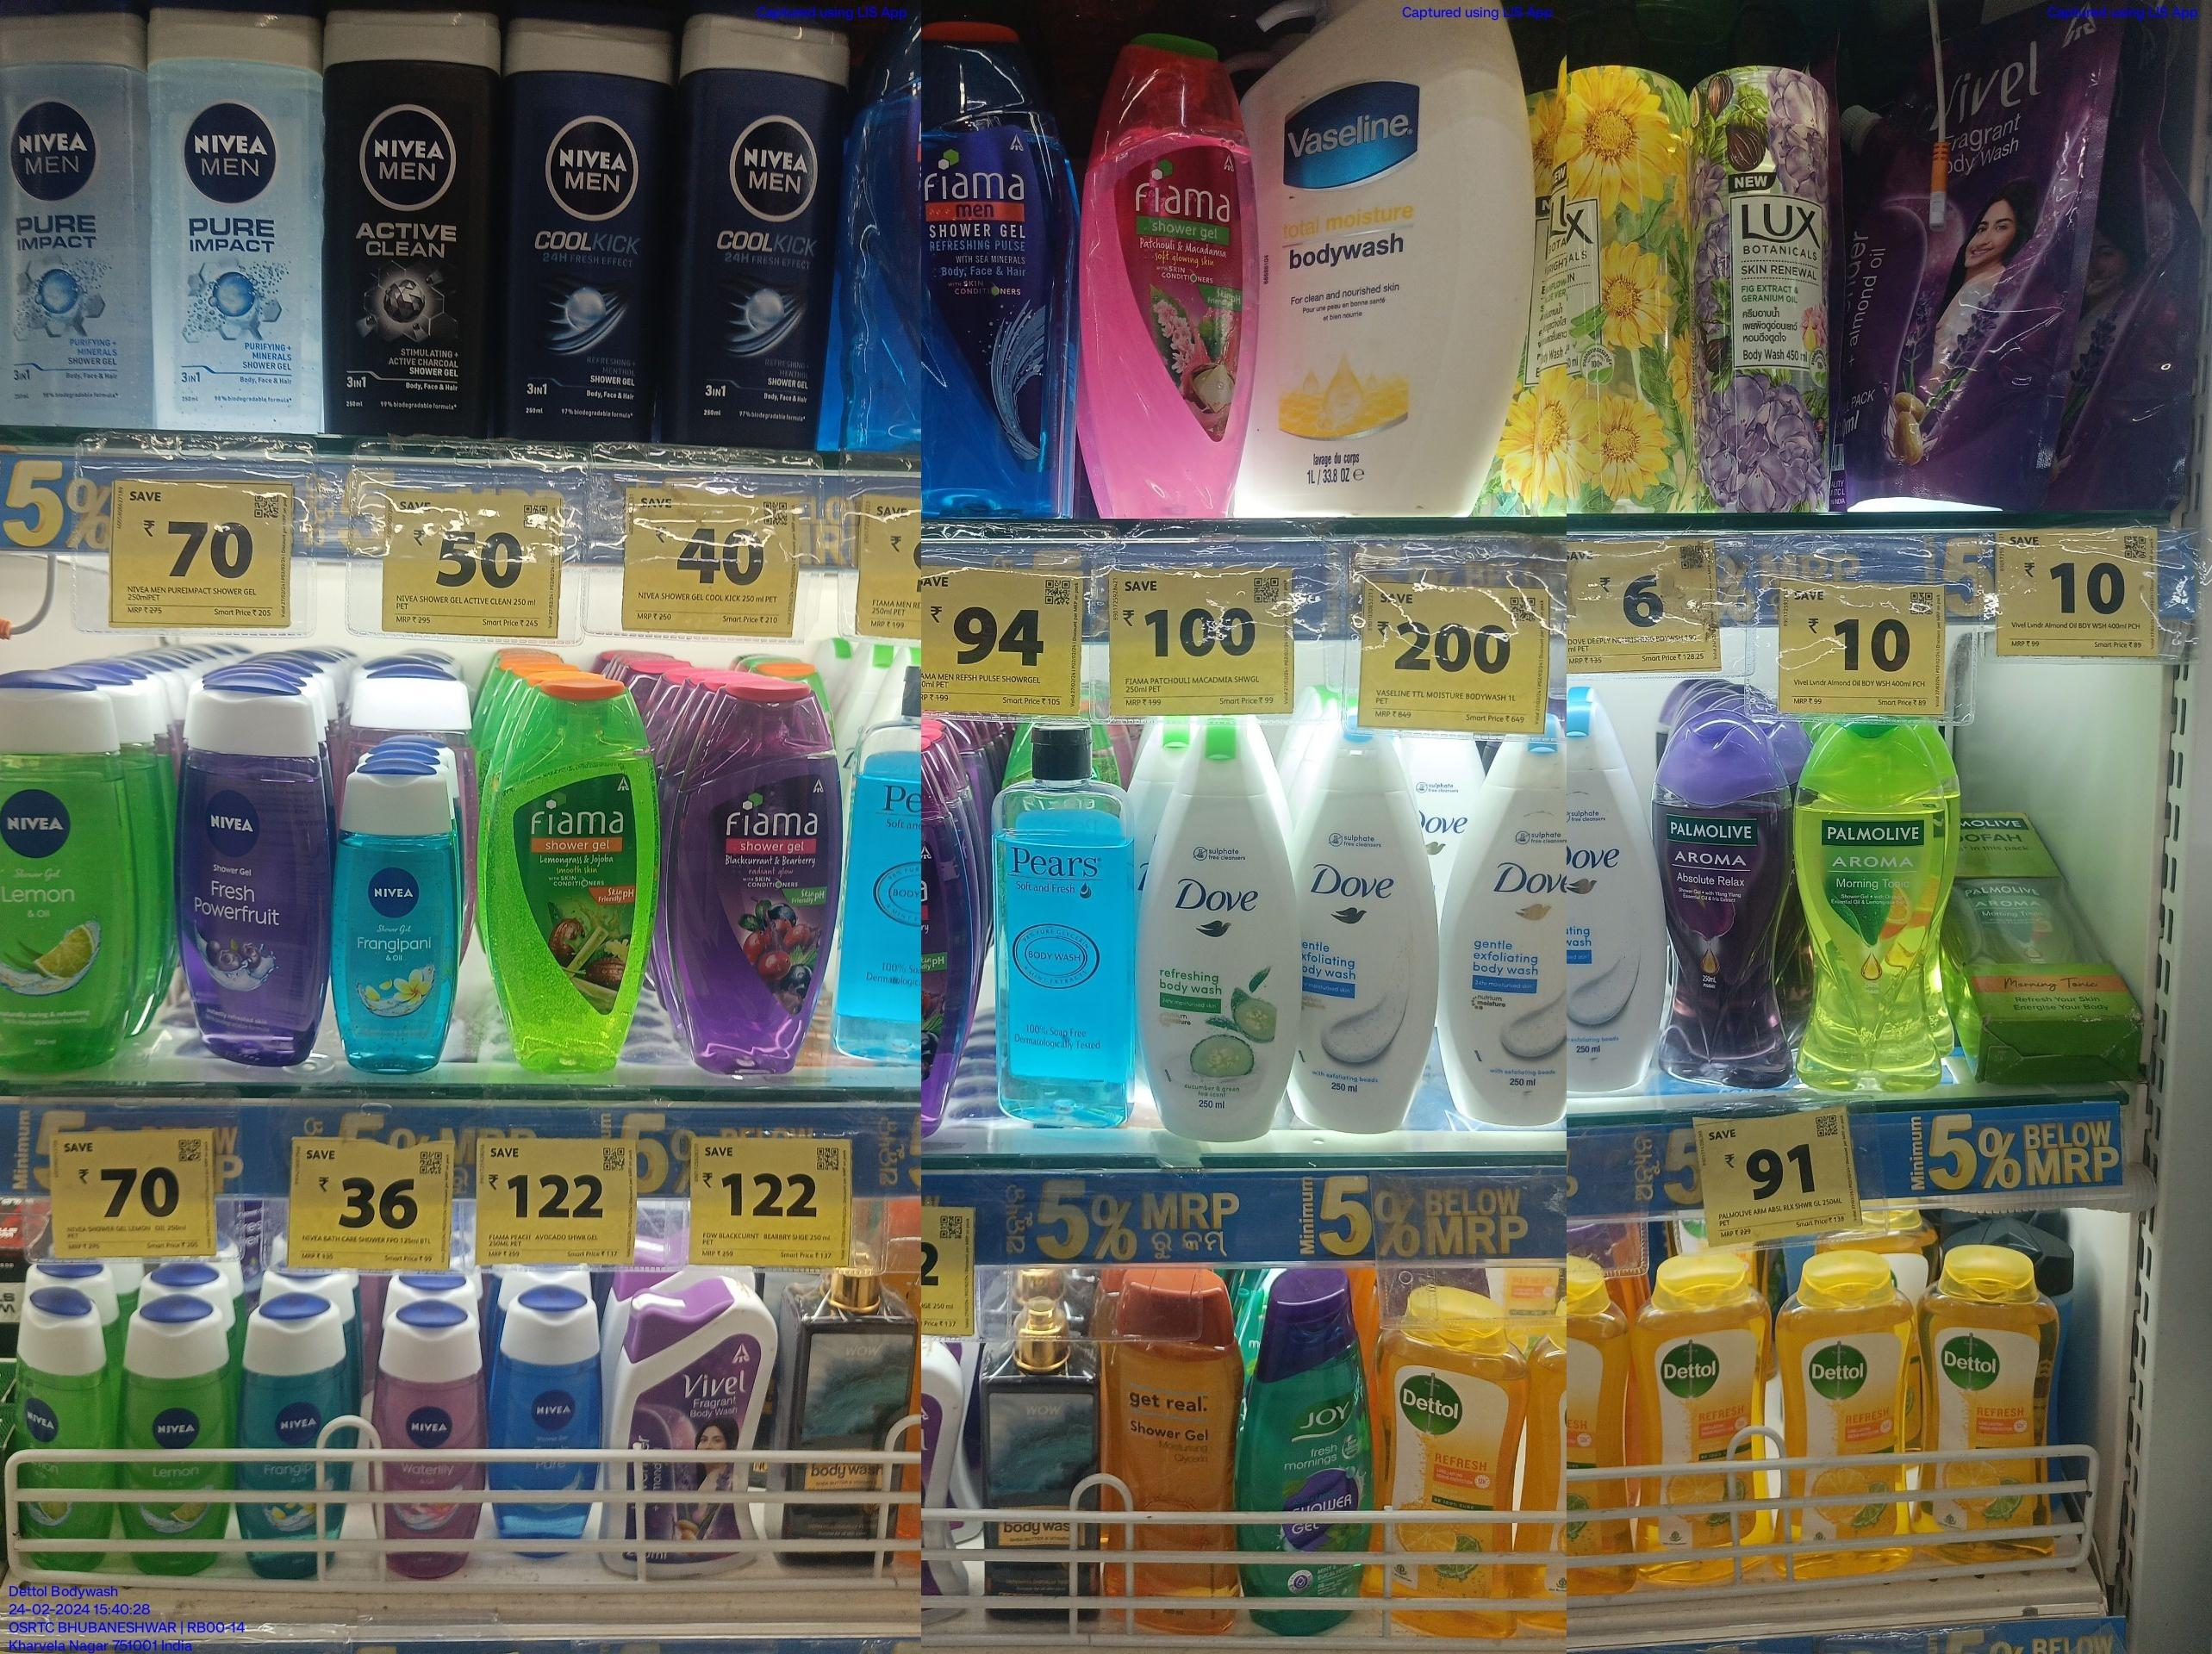Dettol_Bodywash_Refresh: (1632, 1263, 1774, 1598), (1387, 1286, 1513, 1628), (1920, 1258, 2054, 1565), (1779, 1263, 1906, 1579)
Dove_Gentle_Exfoliating_Body_Wash_250ML: (1298, 744, 1427, 1157), (1437, 758, 1566, 1136)
Dove_Refreshing_Body_Wash_250ML: (1142, 728, 1286, 1150)
Fiama_Shower_Gel_Lemongrass_and_Jojoba_250ML: (495, 697, 655, 1075)
Fiama_Shower_Gel_Patchouli_and_Macadamia_250ML: (1077, 45, 1258, 506)
Get_Real_Shower_Gel_Moisturising_Glycerin_300ML: (1109, 1261, 1242, 1642)
Joy_Shower_Gel_Mint_and_Eucalyptus_250ML: (1249, 1272, 1374, 1640)
Nivea_Shower_Gel_Frangipani_and_Oil_250ML: (337, 780, 460, 1072)
Nivea_Shower_Gel_Fresh_Powerfruit_250ML: (179, 676, 330, 1068)
Nivea_Shower_Gel_Lemon_and_Oil_250ML: (0, 674, 118, 1086)
Palmolive_Aroma_Morning_Tonic_Shower_Gel_250ML: (1798, 721, 1948, 1089)
Palmolive_Aroma_Relax_250ML: (1661, 719, 1786, 1084)
Pears_Pure_Glycerin_and_Mint_Extracts_Body_Wash_250ML: (999, 726, 1121, 1129)
